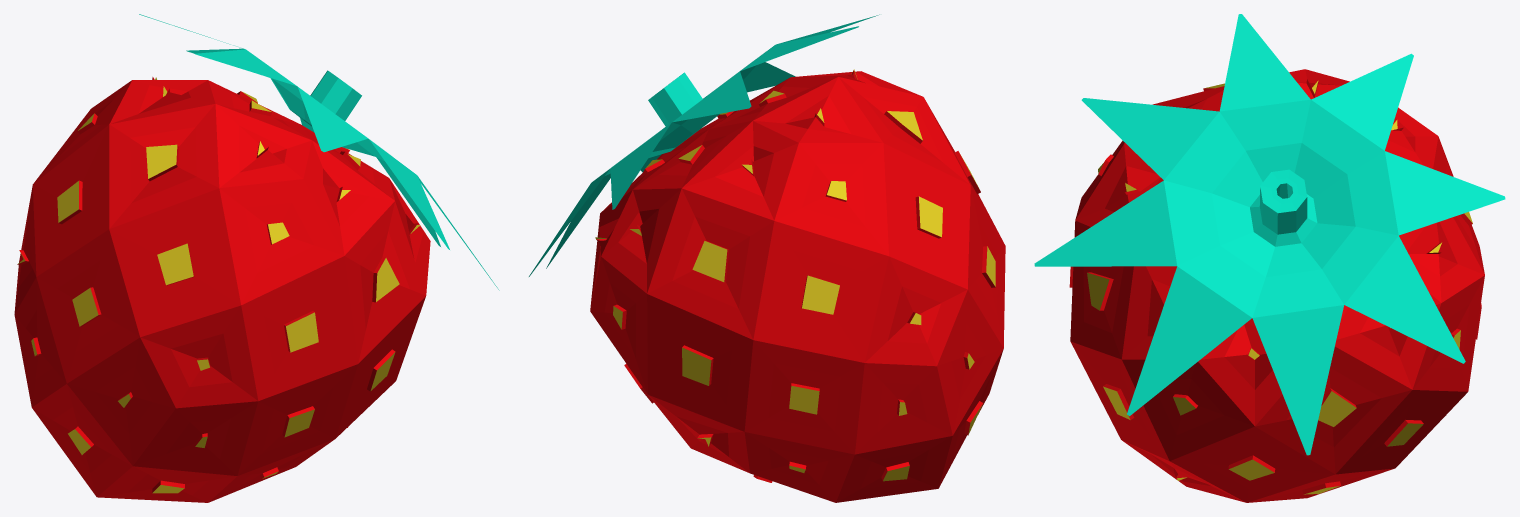
Rendered from first_straw_fruit.fbx.
3 renders of one model, left to right at view 1: azimuth 30°, elevation 25°; view 2: azimuth 150°, elevation 25°; view 3: azimuth 270°, elevation 25°, orthographic. The views are drawn at different scales.
Parts seen in each view (by area): view 1: 立方体.002; view 2: 立方体.002; view 3: 立方体.002.
Boxes of the visible parts, left/top/right/bottom form: 立方体.002: left=14, top=14, right=499, bottom=502; 立方体.002: left=529, top=14, right=1005, bottom=502; 立方体.002: left=1034, top=14, right=1505, bottom=502.
Bounding box in the file's own units: 291 × 295 × 273.
